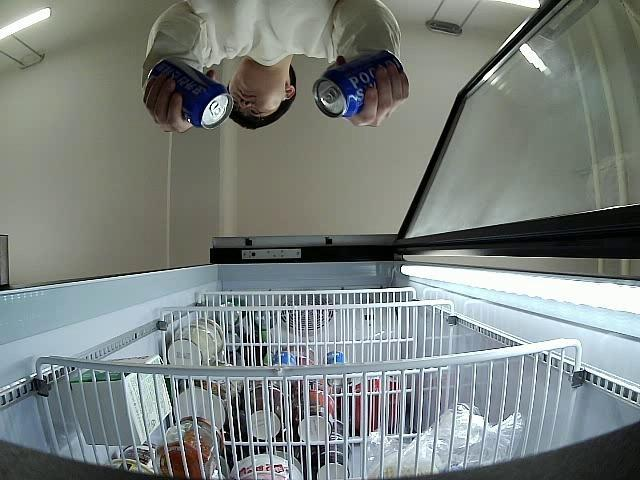13_pocariSweat: (312, 52, 405, 120), (150, 56, 234, 130)
